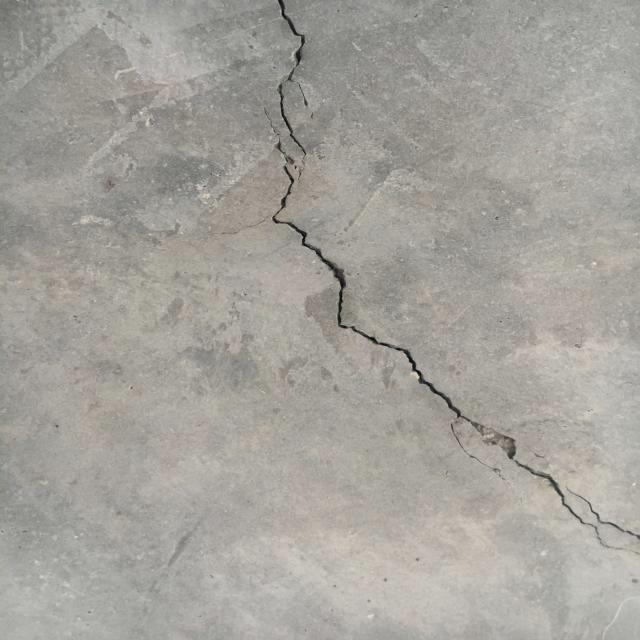SurfaceCrack: (229, 0, 639, 627)
